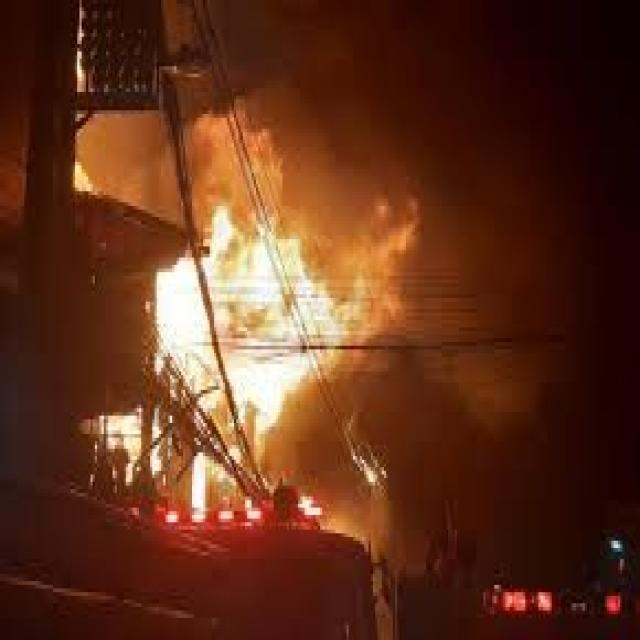Fire: (216, 224, 347, 397), (162, 278, 212, 402)
Smoke: (234, 6, 392, 253), (93, 107, 330, 222)
